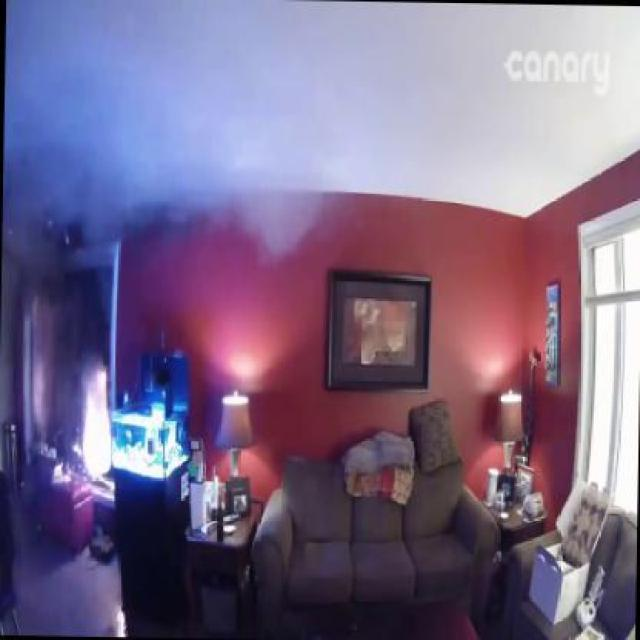fire: (1, 0, 328, 265)
